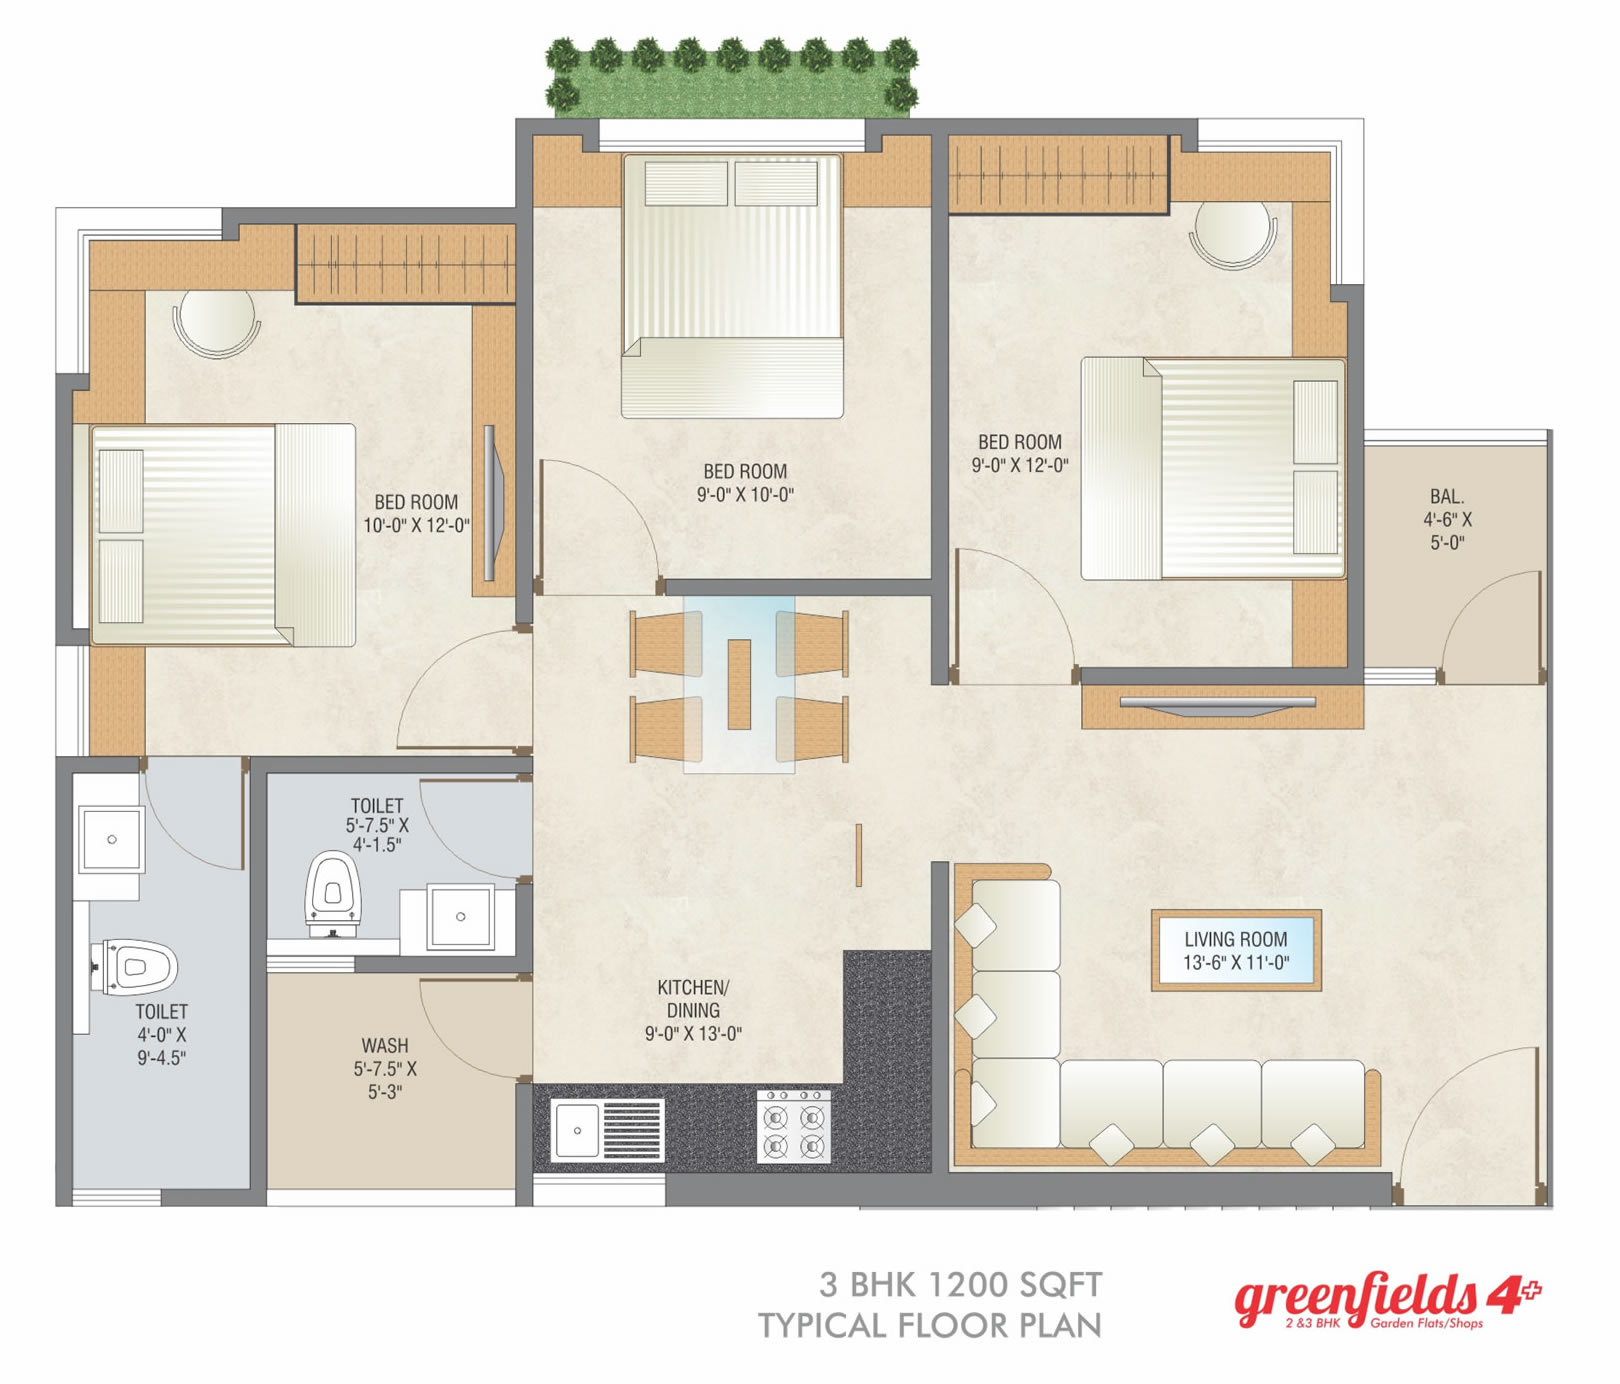door: (1398, 1041, 1542, 1175), (953, 542, 1074, 671), (389, 627, 509, 752), (538, 450, 659, 570), (410, 973, 512, 1079), (1440, 560, 1543, 663), (148, 774, 248, 876), (417, 774, 509, 875)
